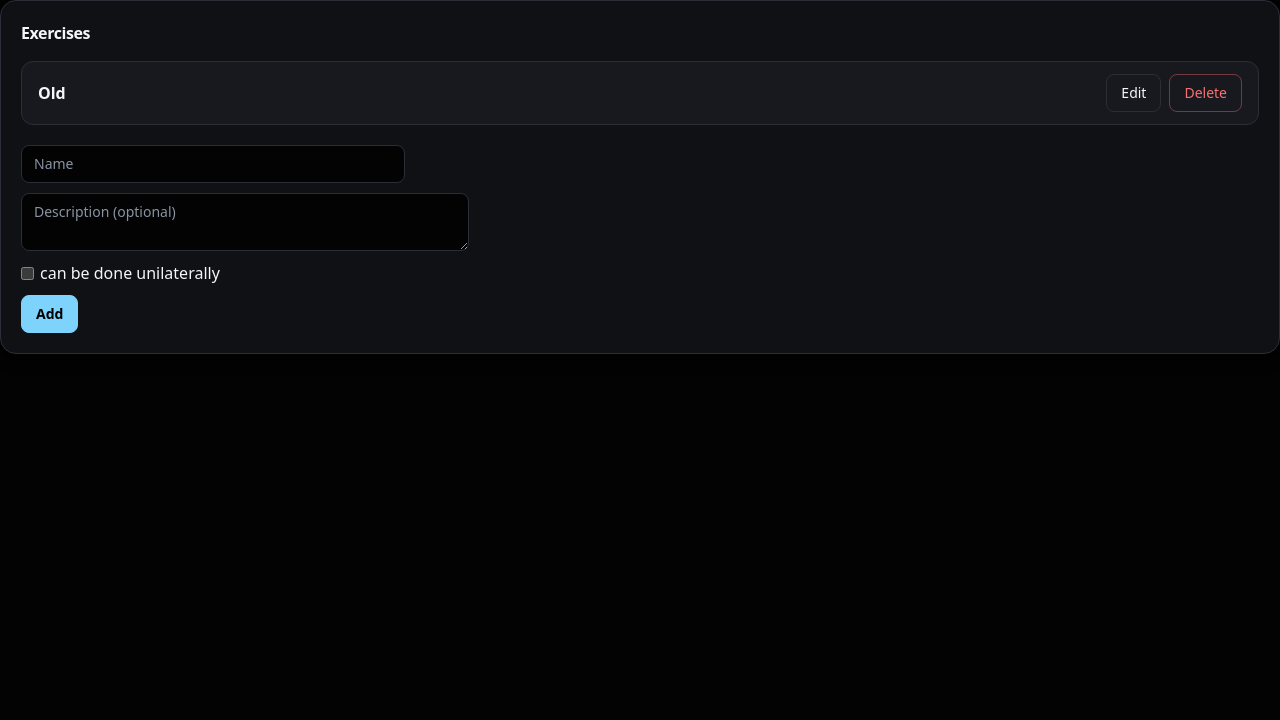
Test: Exercises › edits an exercise in place
Expected: the text "Old" is shown, [38,81,66,105]
Click the button "Edit": (1134,93) [1106,74,1162,112]
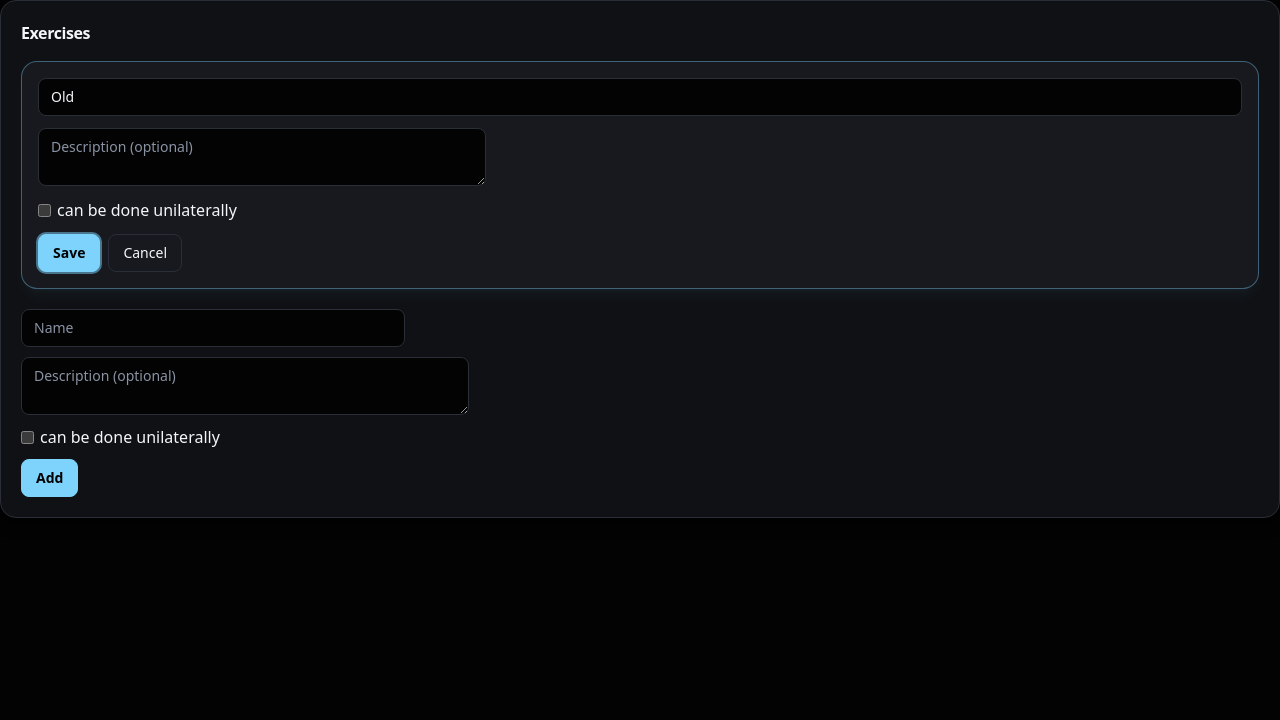
Replace the text in the field showing "Old" with "New": (640,97) [38,78,1242,116]
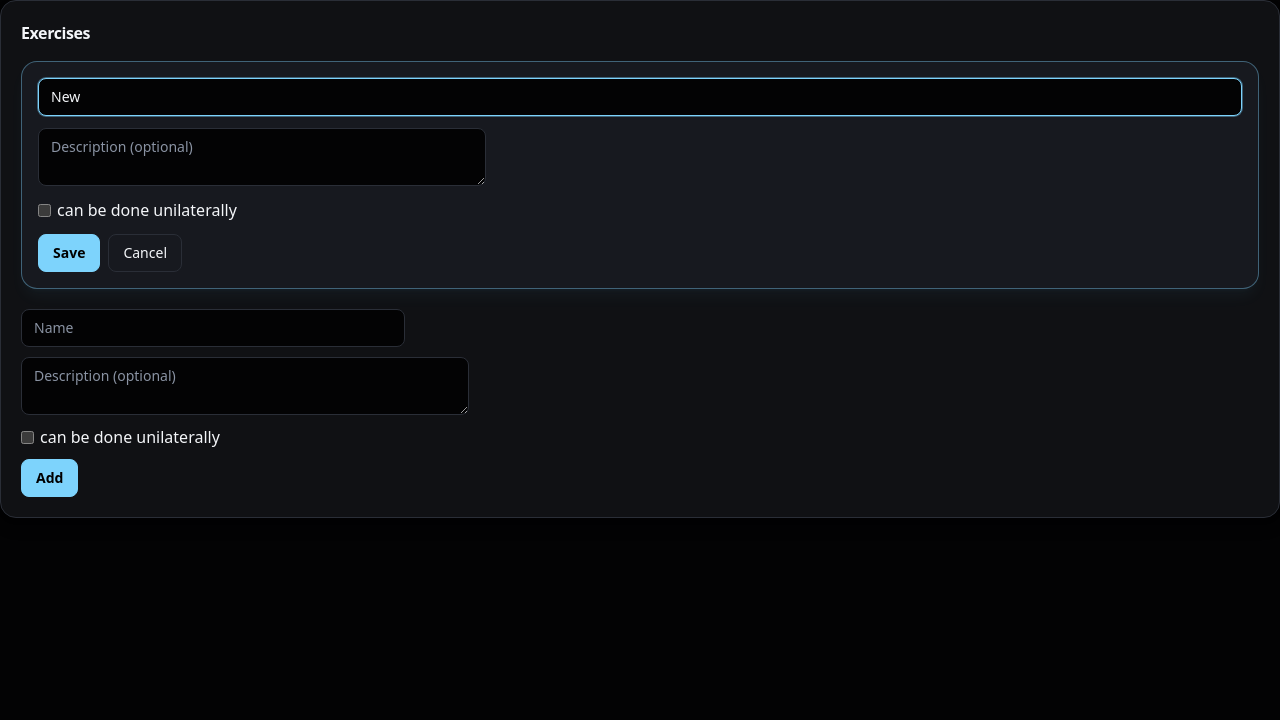
Click the button "Save": (69,253) [38,234,100,272]
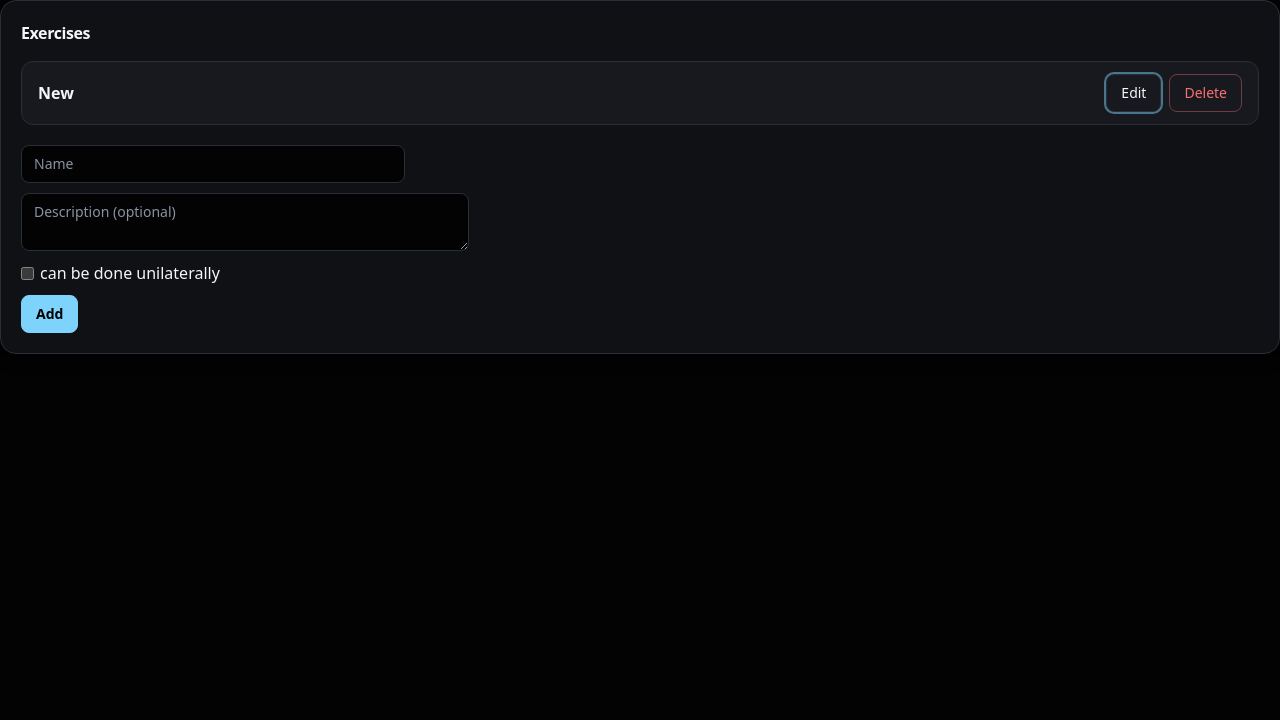
Expected: the text "New" is shown, [38,81,74,105]
